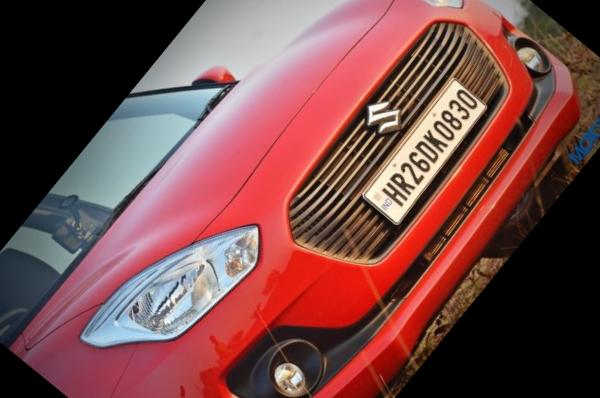plate: (349, 55, 521, 240)
